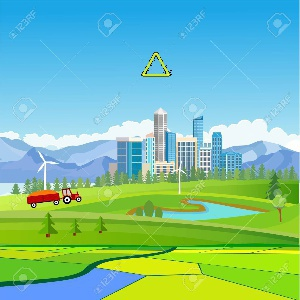triangle: (138, 51, 173, 79)
